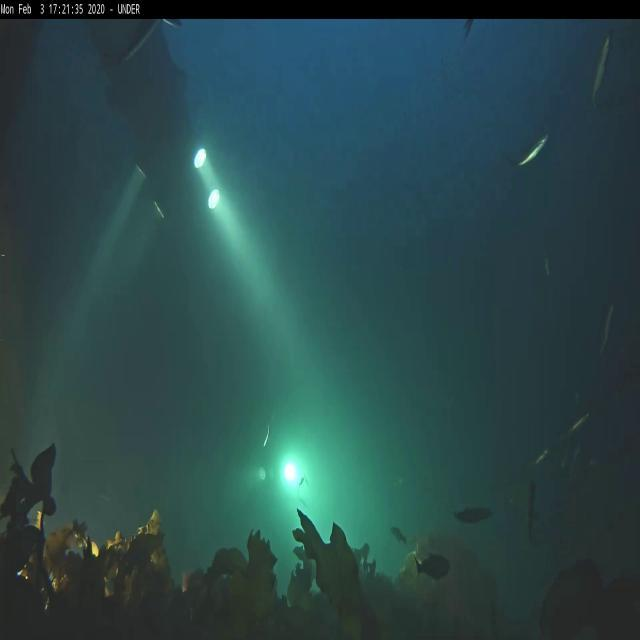fish: (589, 30, 615, 110), (514, 132, 548, 168), (416, 553, 452, 585), (598, 300, 616, 364), (454, 504, 494, 528), (562, 407, 592, 438), (526, 479, 536, 547), (390, 524, 408, 546), (534, 446, 551, 466), (261, 425, 271, 450)
